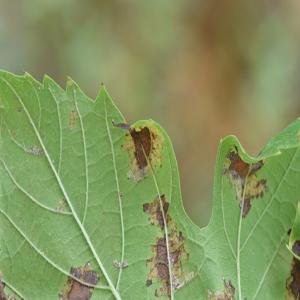Folha: (0, 68, 299, 298)
Fungo: (112, 117, 194, 299), (142, 192, 194, 298), (111, 117, 163, 185), (222, 146, 268, 218), (58, 260, 99, 300), (284, 198, 300, 299), (130, 126, 151, 170), (208, 276, 235, 299), (126, 157, 147, 184), (286, 228, 300, 261), (221, 276, 235, 298), (111, 118, 131, 131), (68, 108, 77, 131), (55, 198, 67, 212), (113, 259, 128, 270), (30, 145, 44, 155), (113, 259, 120, 270), (122, 260, 128, 268), (17, 106, 22, 112), (119, 190, 122, 196)
